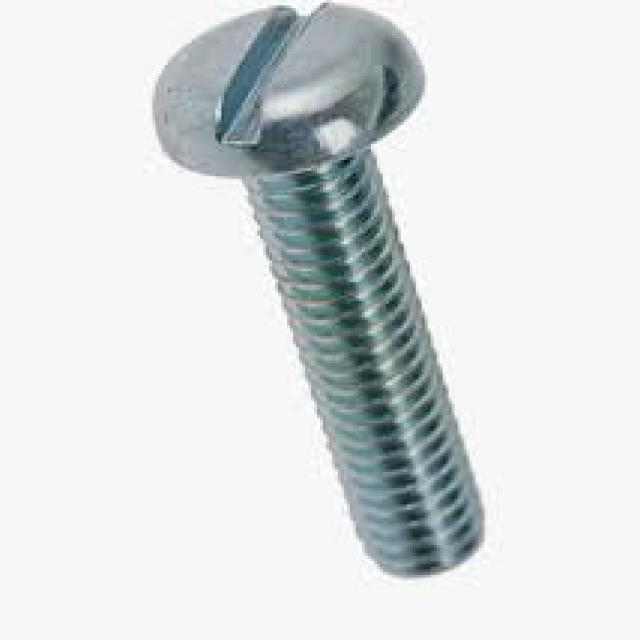Screw: (153, 3, 487, 583)
